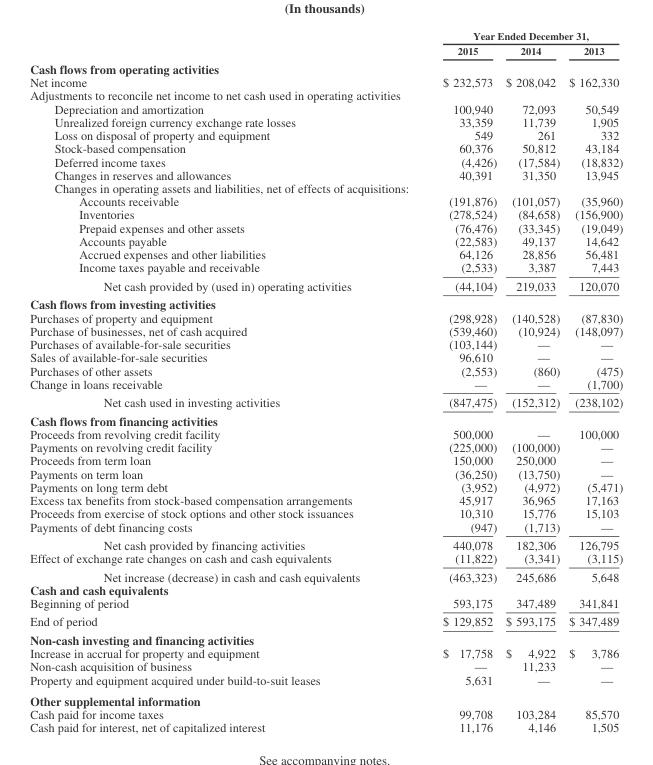table: (29, 29, 622, 733)
table column: (29, 29, 400, 733), (400, 29, 500, 733), (500, 29, 563, 733), (563, 29, 622, 733)
table column header: (29, 29, 622, 59)
table projected row header: (29, 689, 622, 707), (29, 59, 622, 75), (29, 294, 622, 310), (29, 411, 622, 427), (29, 630, 622, 646), (29, 582, 622, 596), (29, 88, 622, 101), (29, 181, 622, 194)
table row: (29, 392, 622, 411), (29, 276, 622, 294), (29, 612, 622, 630), (29, 689, 622, 707), (29, 42, 622, 59), (29, 672, 622, 689), (29, 59, 622, 75), (29, 260, 622, 276), (29, 294, 622, 310), (29, 376, 622, 392), (29, 411, 622, 427), (29, 519, 622, 535), (29, 535, 622, 551), (29, 551, 622, 567), (29, 596, 622, 612), (29, 630, 622, 646), (29, 567, 622, 582), (29, 101, 622, 115), (29, 167, 622, 181), (29, 220, 622, 234), (29, 323, 622, 337), (29, 479, 622, 493), (29, 582, 622, 596), (29, 29, 622, 42), (29, 75, 622, 88), (29, 88, 622, 101), (29, 115, 622, 128), (29, 128, 622, 141), (29, 141, 622, 154), (29, 154, 622, 167), (29, 181, 622, 194), (29, 194, 622, 207), (29, 207, 622, 220), (29, 234, 622, 247), (29, 247, 622, 260), (29, 310, 622, 323), (29, 337, 622, 350), (29, 350, 622, 363), (29, 363, 622, 376), (29, 427, 622, 440), (29, 440, 622, 453), (29, 453, 622, 466), (29, 466, 622, 479), (29, 493, 622, 506), (29, 506, 622, 519), (29, 646, 622, 659), (29, 659, 622, 672), (29, 707, 622, 720), (29, 720, 622, 733)
table spanning cell: (400, 29, 622, 42)
